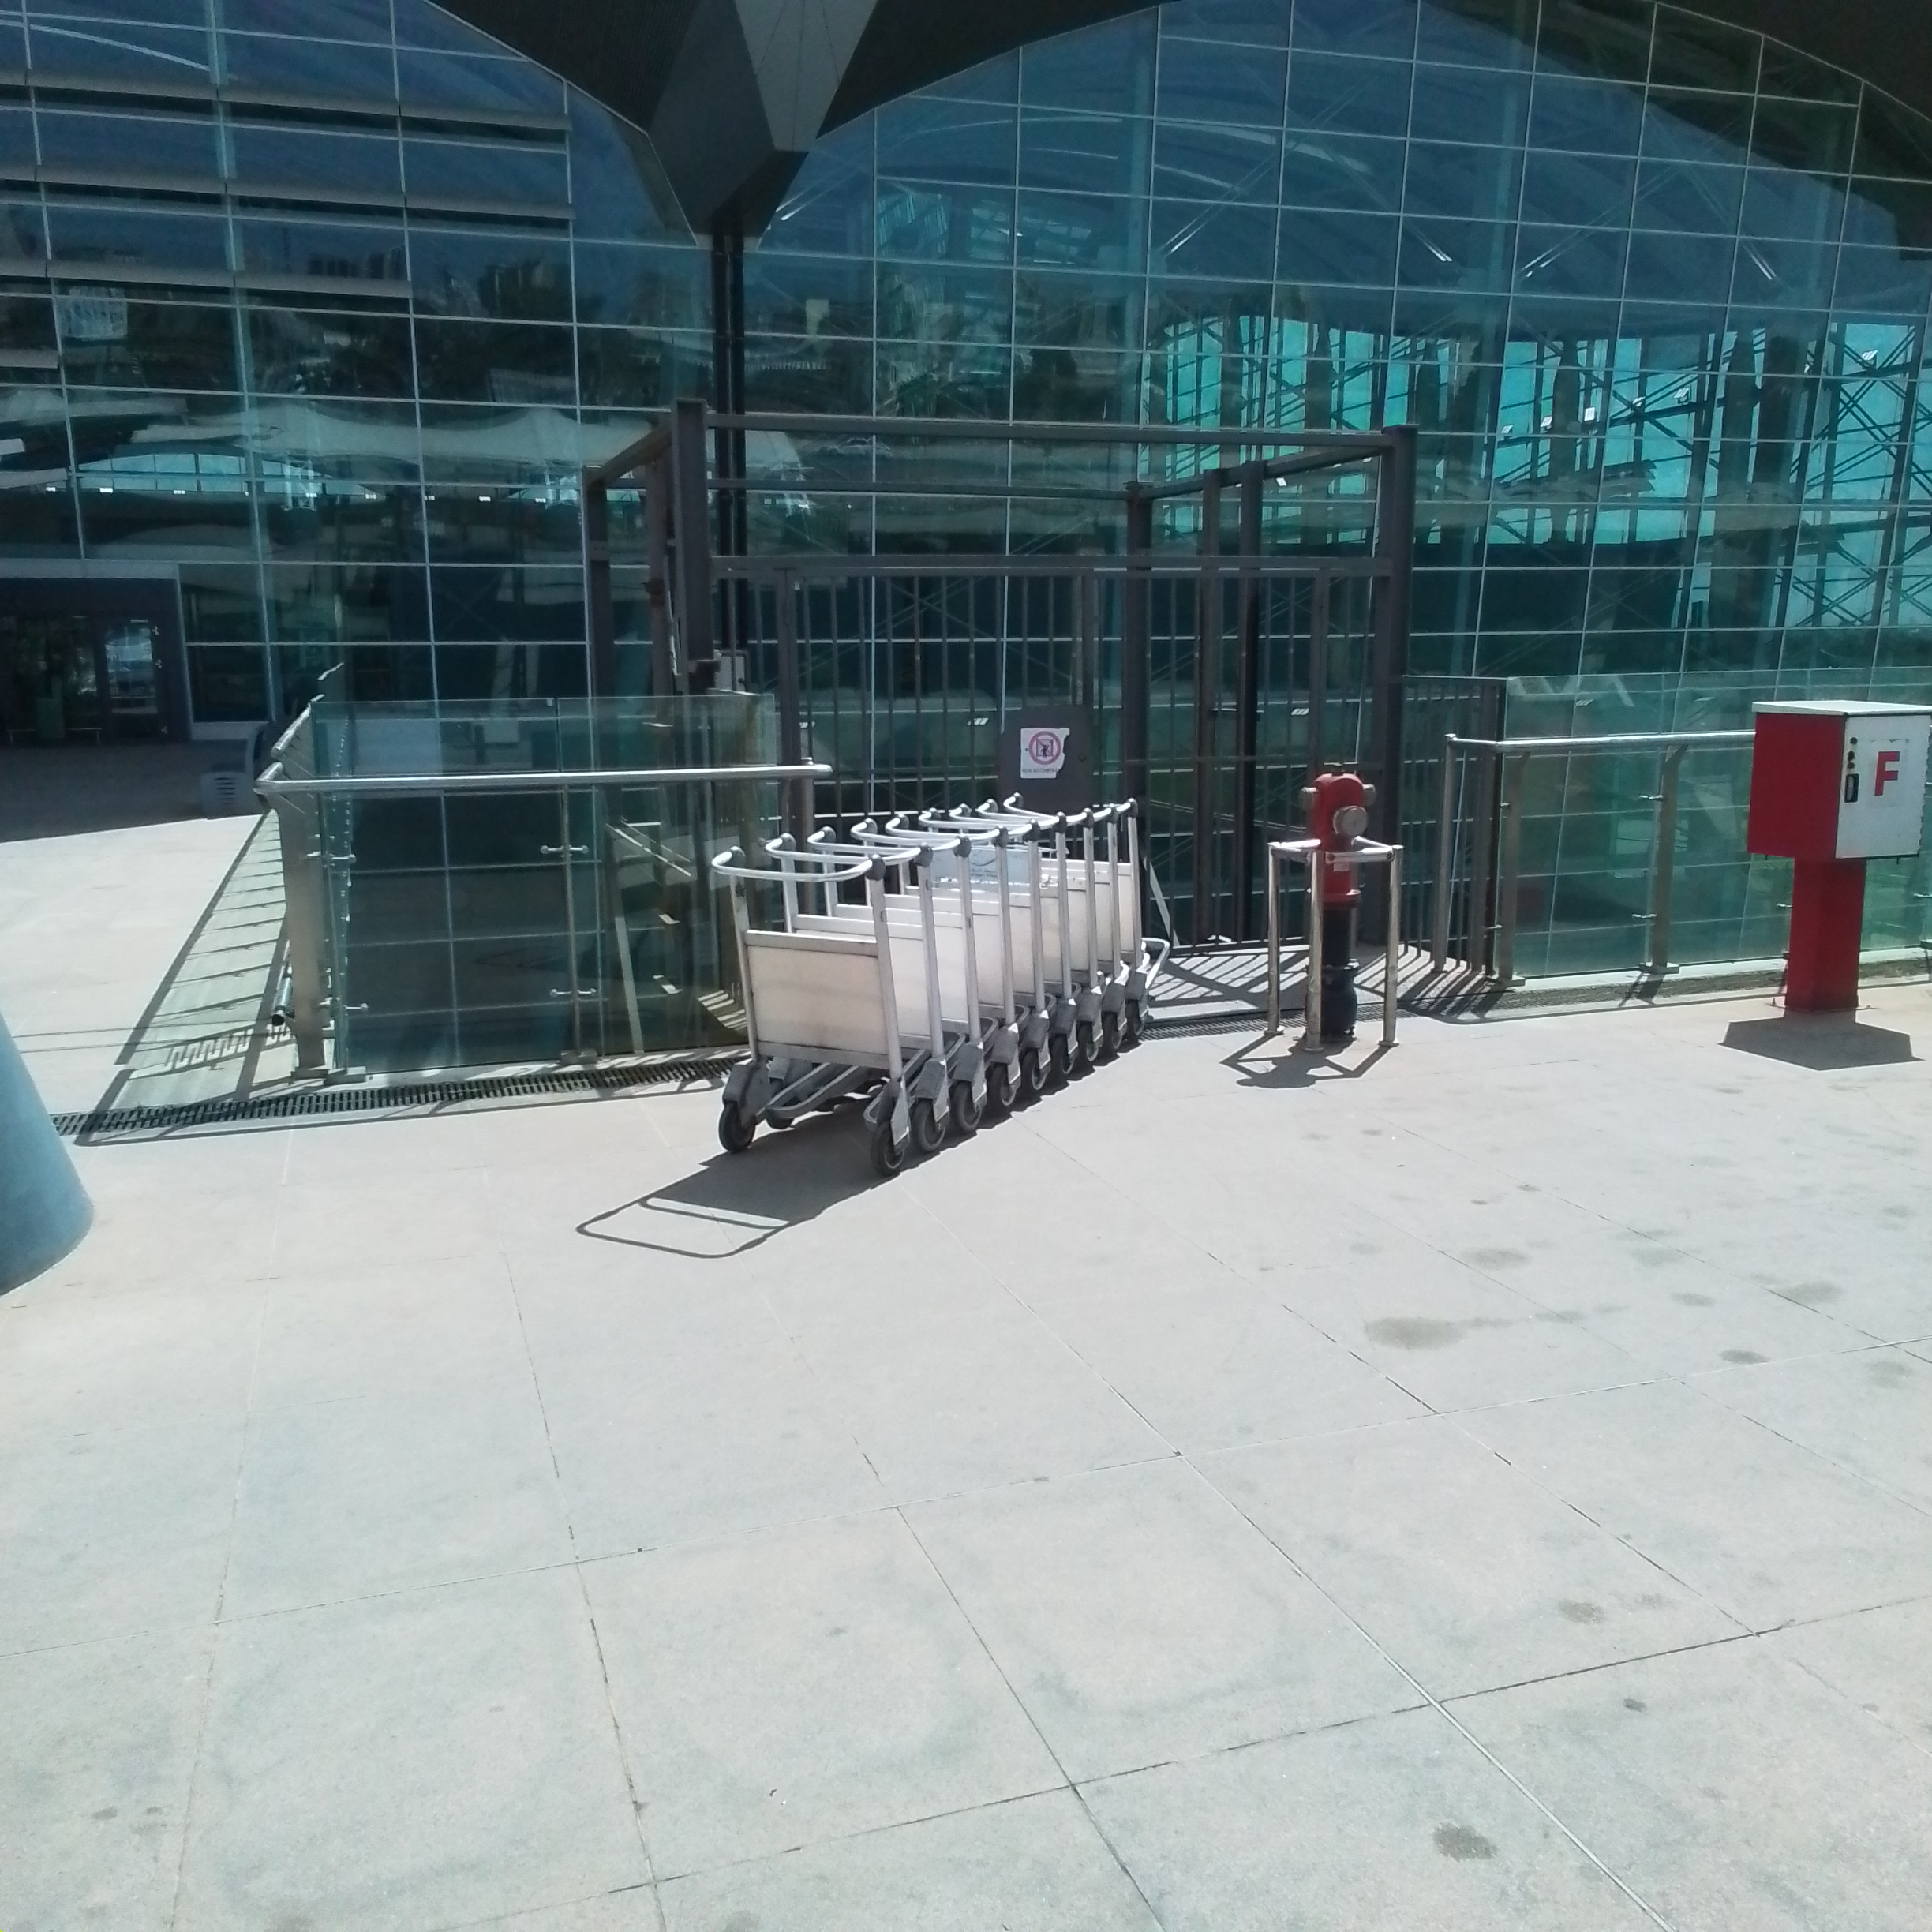airport-trolley: (706, 844, 932, 1171), (842, 819, 1035, 1146), (761, 826, 952, 1145), (810, 819, 1000, 1134), (883, 817, 1070, 1095), (931, 805, 1083, 1100), (1007, 778, 1148, 1044), (1005, 789, 1129, 1062), (991, 800, 1106, 1076)
